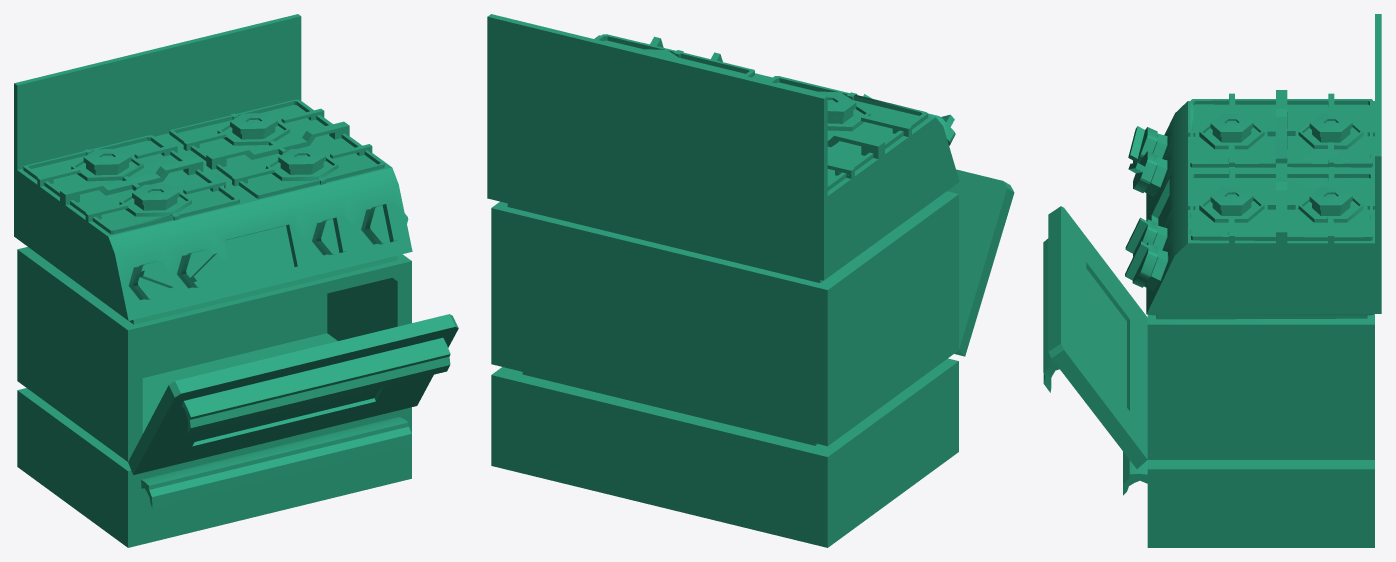
The model's file is gasrange.fbx.
3 renders of one model, left to right at view 1: azimuth 30°, elevation 25°; view 2: azimuth 150°, elevation 25°; view 3: azimuth 270°, elevation 25°, orthographic. The views are drawn at different scales.
Parts seen in each view (by area): view 1: Box010; view 2: Box010; view 3: Box010.
Part boxes in pixels (bbox=[...]): Box010: bbox=[14, 14, 458, 547]; Box010: bbox=[487, 14, 1014, 547]; Box010: bbox=[1043, 14, 1381, 547].
Bounding box in the file's own units: 1.63 × 2.09 × 1.64.
